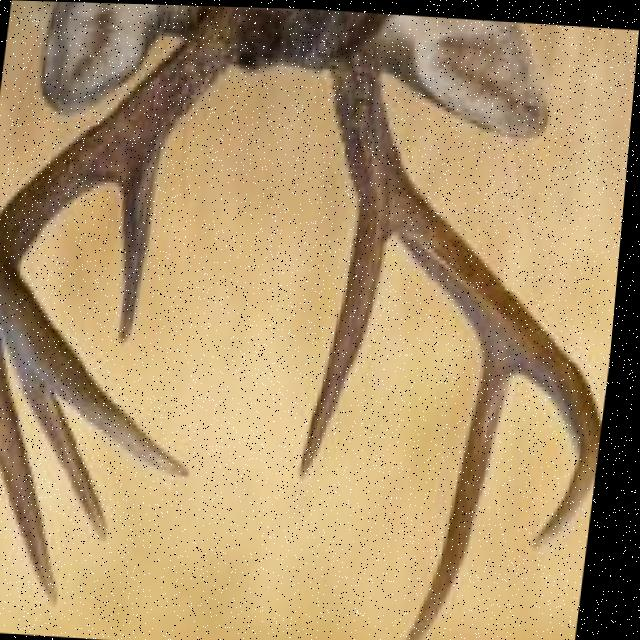L-F: (328, 39, 610, 551)
L-G1: (304, 190, 398, 485)
L-G2: (415, 343, 521, 640)
R-F: (0, 5, 297, 482)
R-G1: (117, 133, 169, 348)
R-G2: (0, 323, 70, 608)
R-G3: (29, 385, 120, 544)
